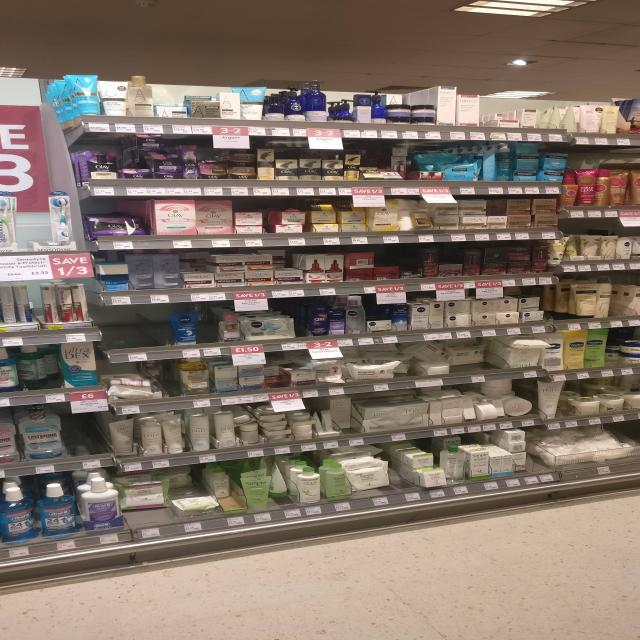empty: (104, 311, 167, 348), (68, 410, 110, 459), (14, 197, 51, 250), (537, 288, 580, 321), (524, 430, 557, 471), (293, 301, 318, 343), (609, 280, 636, 318), (396, 245, 426, 277)
